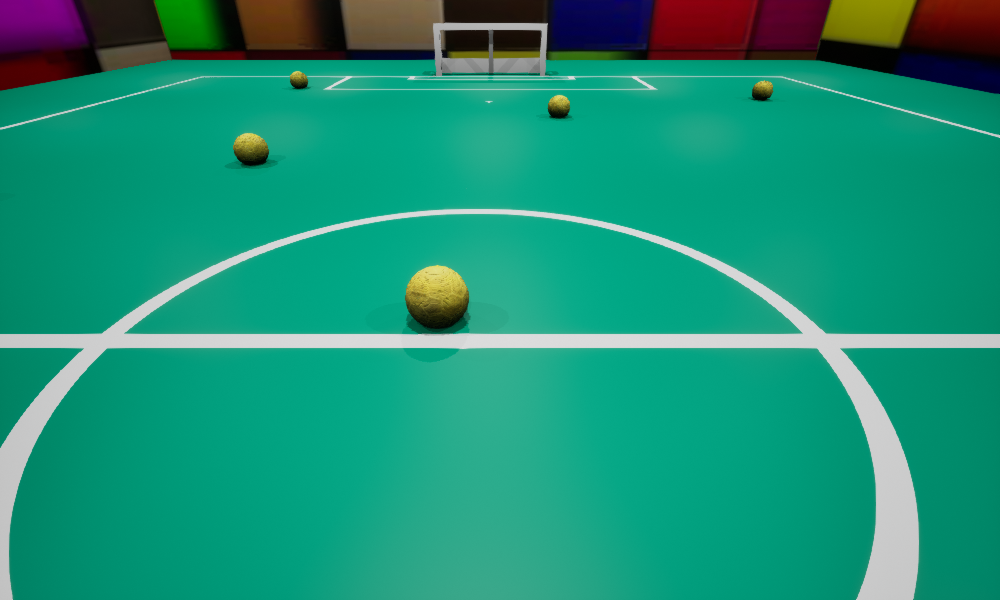b: (405, 265, 468, 327), (233, 133, 268, 164), (548, 95, 569, 117), (752, 80, 772, 99), (290, 71, 307, 88)
g: (433, 23, 547, 75)
